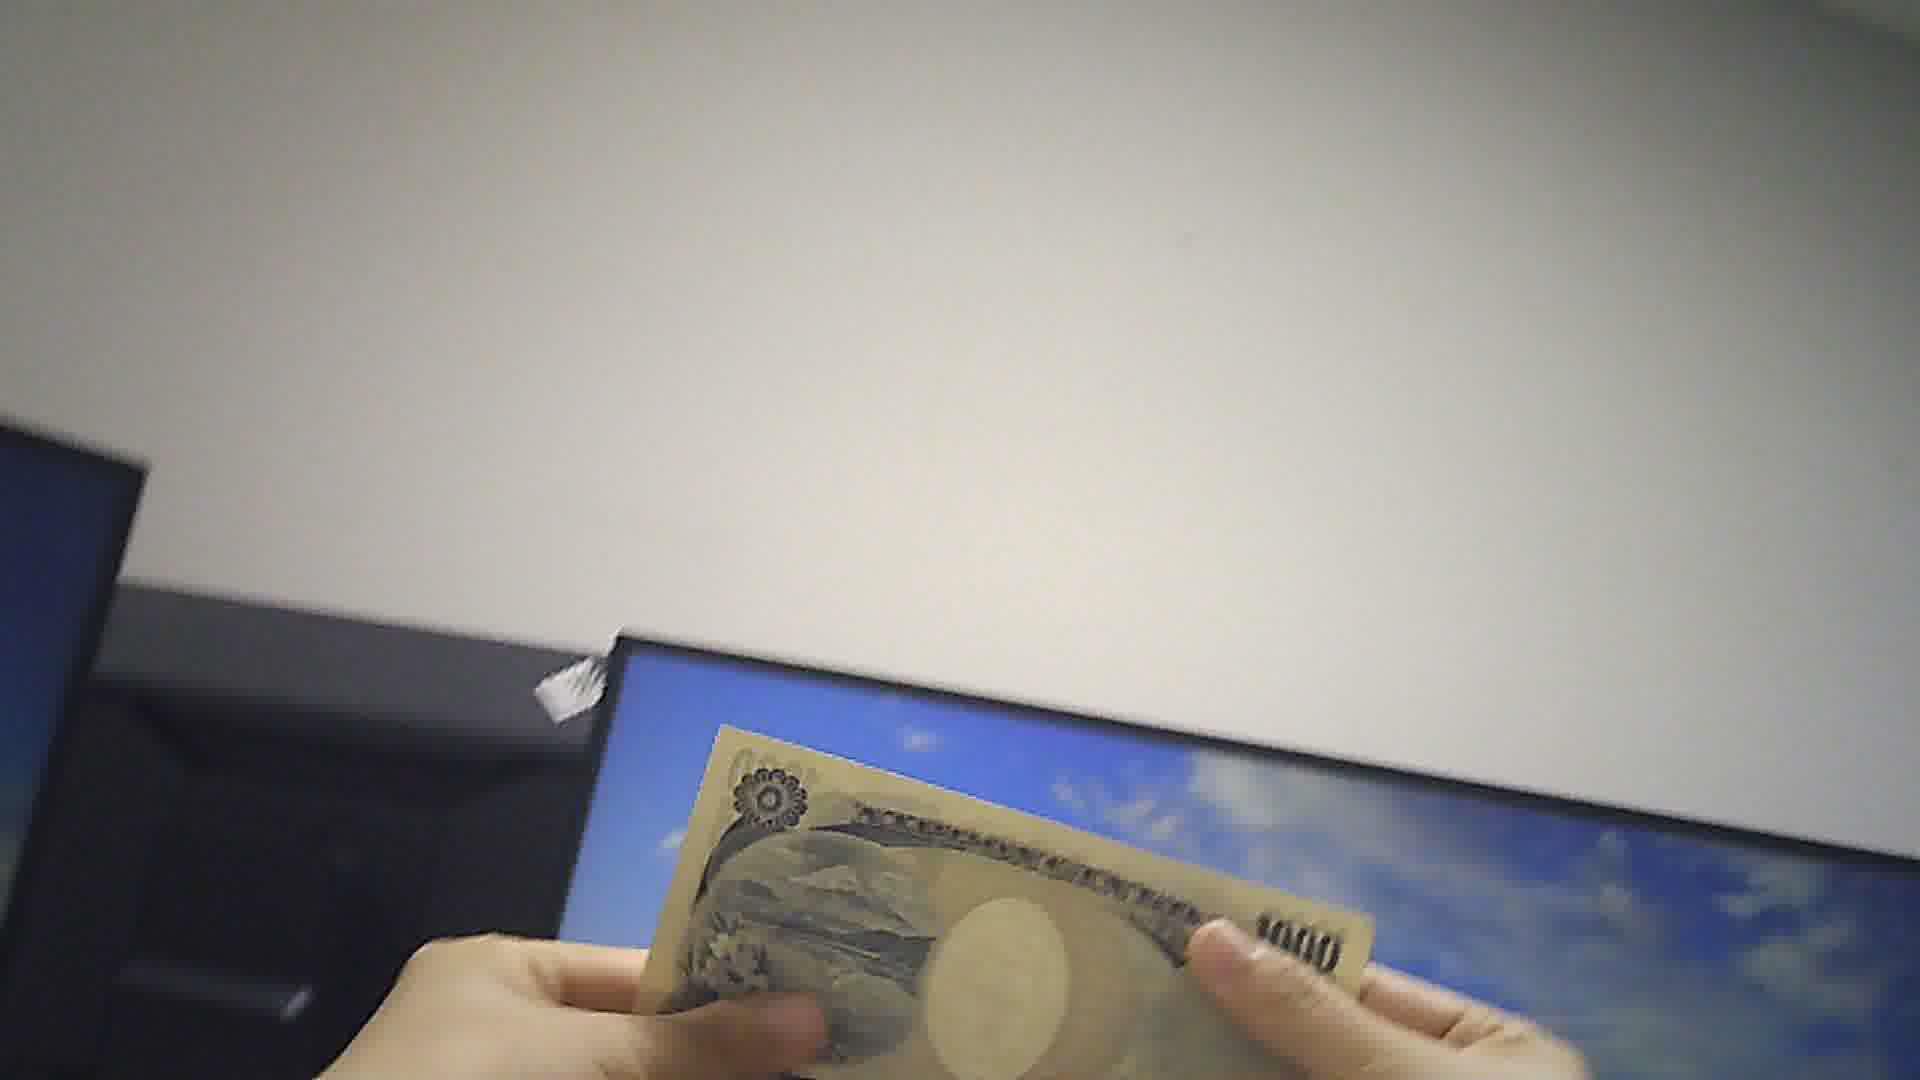1,000 Yen: (613, 709, 1399, 1077)
